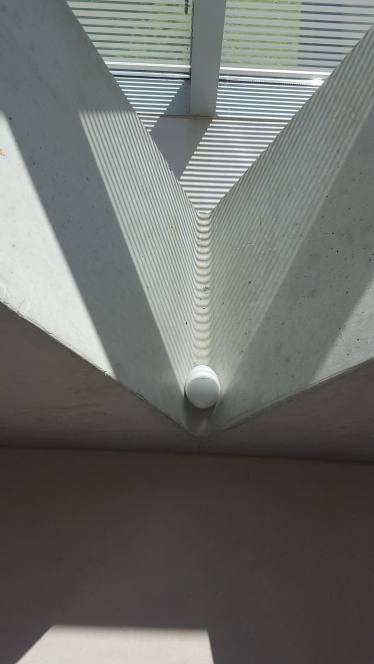egg: (183, 366, 220, 409)
